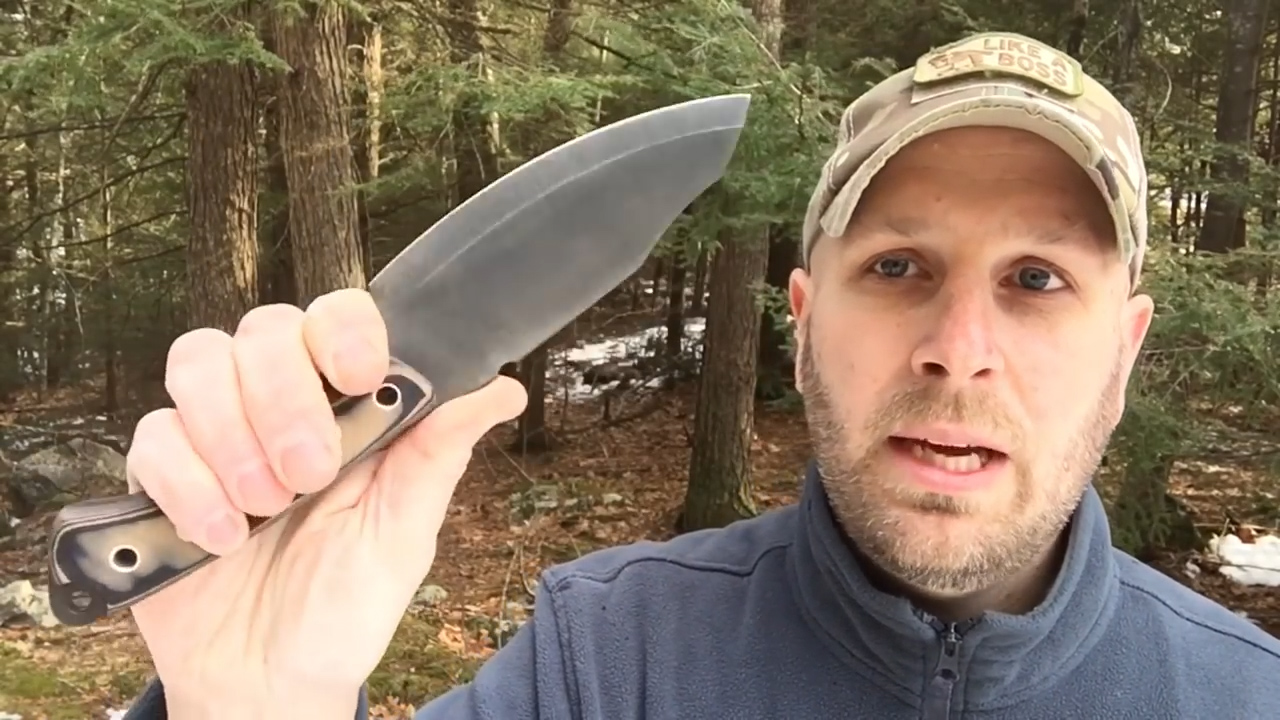knife: (214, 89, 765, 517)
